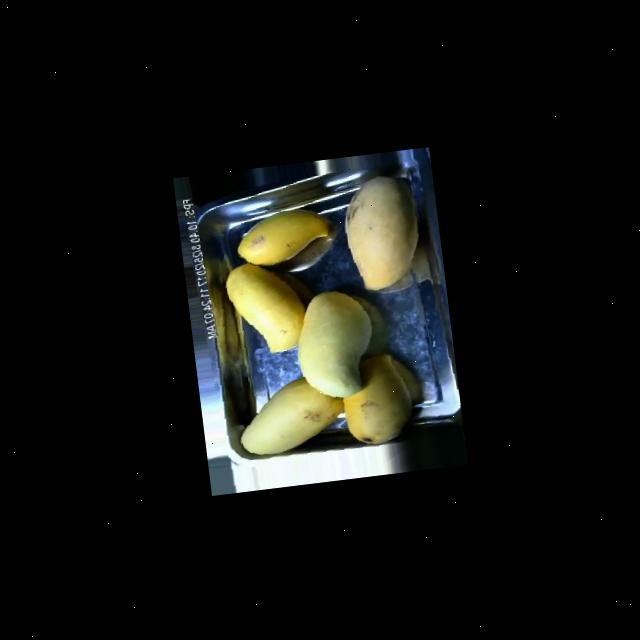Mango: (337, 171, 424, 293), (232, 372, 348, 458), (222, 256, 310, 358)
